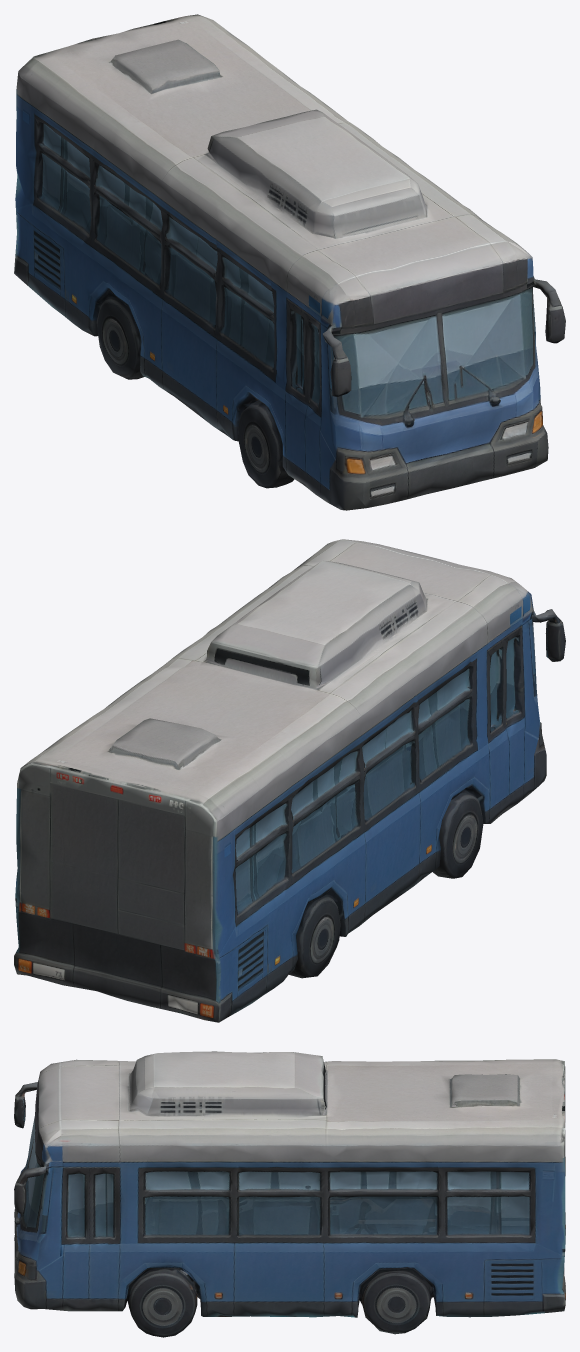
The model's file is Car_Bus_01.glb.
3 renders of one model, top to bottom at view 1: azimuth 30°, elevation 25°; view 2: azimuth 150°, elevation 25°; view 3: azimuth 270°, elevation 25°, orthographic. The views are drawn at different scales.
Parts seen in each view (by area): view 1: texture_mapping; view 2: texture_mapping; view 3: texture_mapping.
Boxes of the visible parts, <box> form: texture_mapping: <box>14,14,565,510</box>; texture_mapping: <box>14,539,565,1022</box>; texture_mapping: <box>14,1051,565,1337</box>.
Bounding box in the file's own units: 0.3991 × 0.4574 × 0.9999.
Materials: 1 (1 with a texture image).
